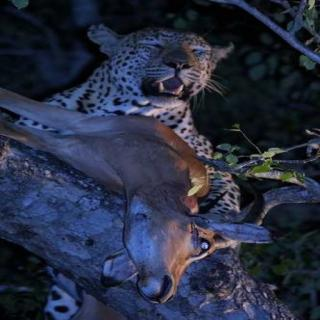-: (77, 22, 241, 139)
